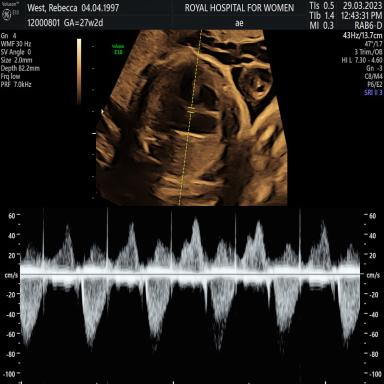Ultrasound-Waves: (26, 208, 358, 384)
